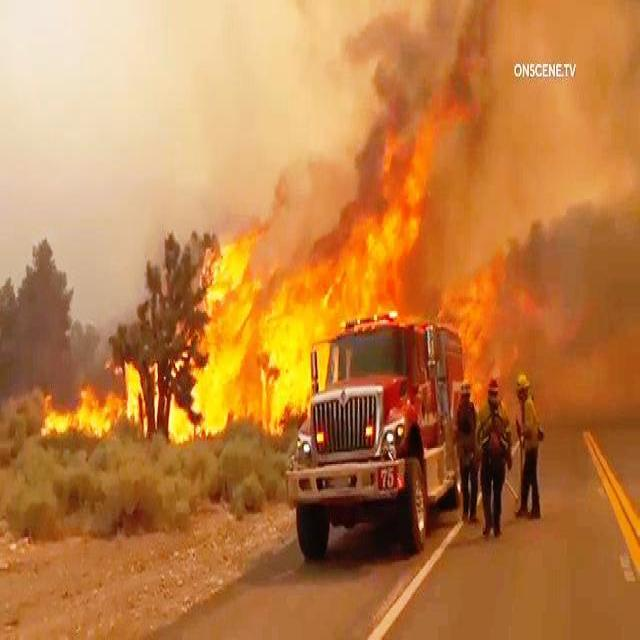Fire: (252, 106, 444, 306), (521, 185, 640, 372), (172, 214, 262, 422)
